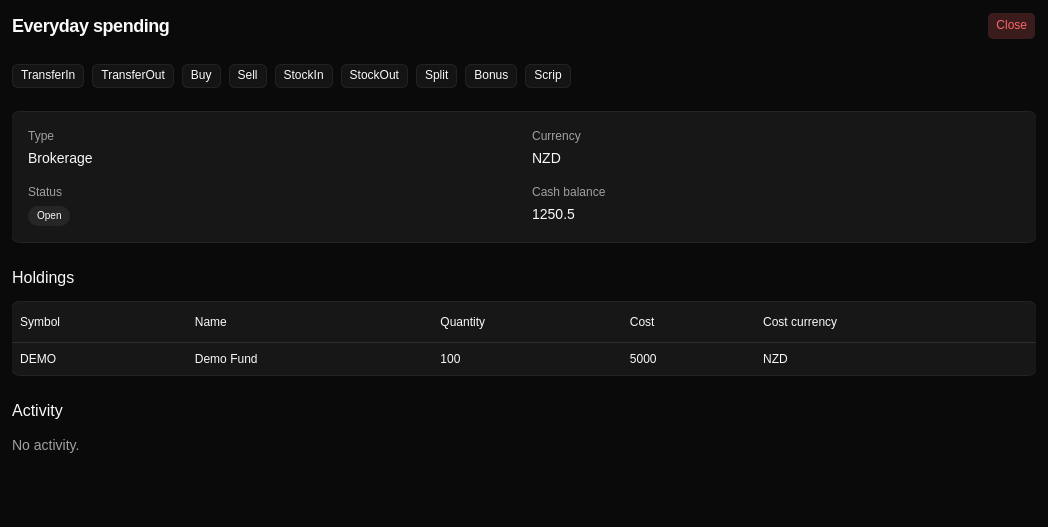
Test: AccountDetailPage › stays on the page and shows a close rejection
This screenshot has width=1048, height=527.
Click the button "Close" at (1012, 26), box [987, 12, 1036, 40]
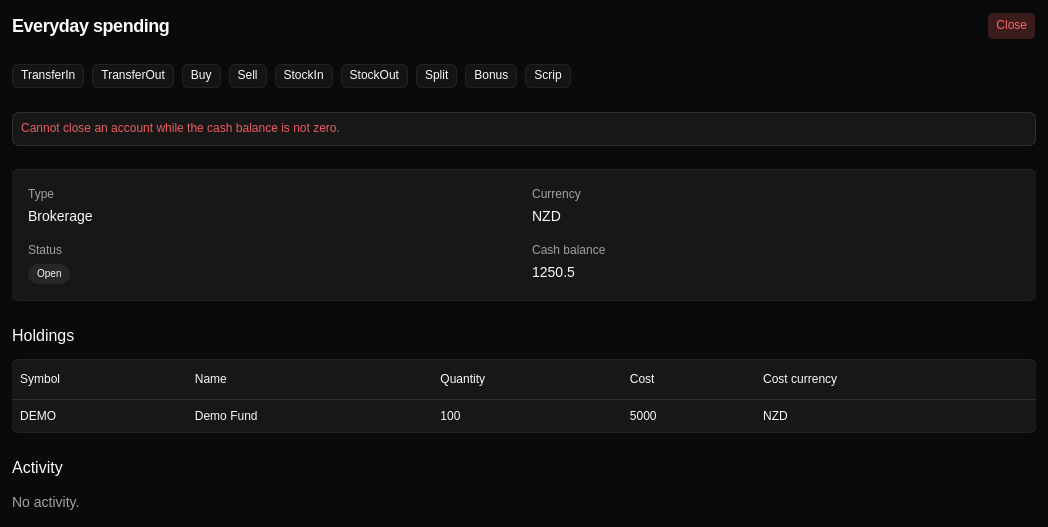
Check: the icon "Open" is shown, box [28, 264, 70, 284]
Check: the text "Cannot close an account while the cash balance is not zero." is shown, box [21, 121, 340, 135]
